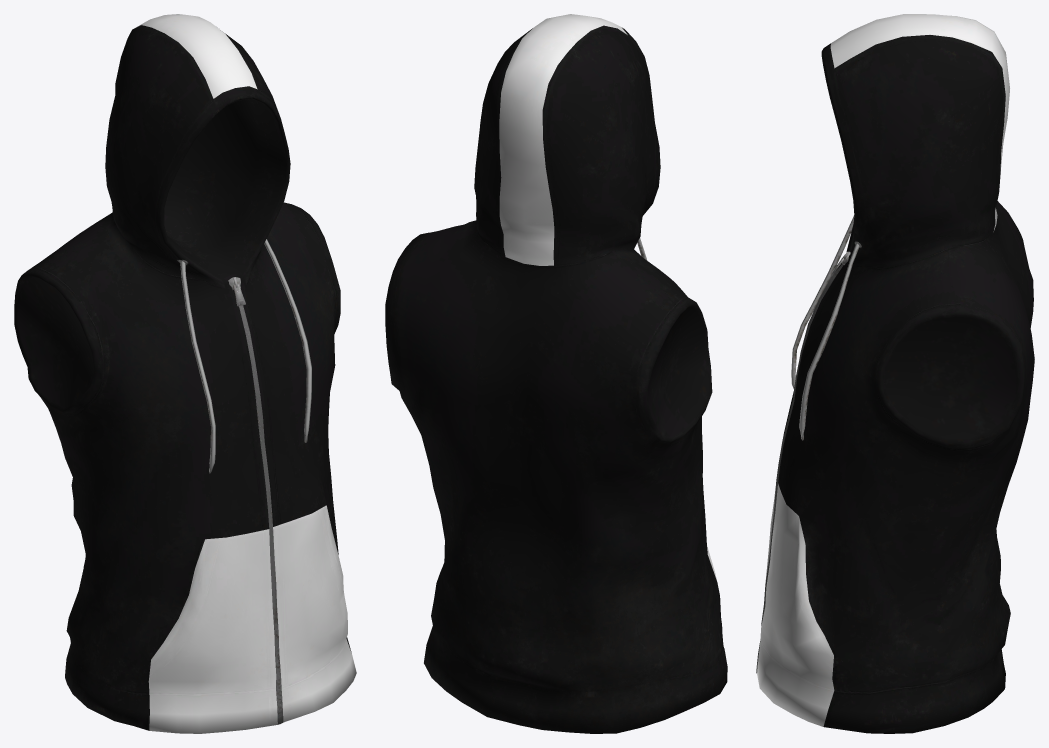
Rendered from SurvivorMale_Chest_Shirt_SleevelessHoodie_Up_LOD0.glb.
The picture shows the model from 3 angles, left to right: view 1: azimuth 30°, elevation 25°; view 2: azimuth 150°, elevation 25°; view 3: azimuth 270°, elevation 25°; orthographic projection. The views are drawn at different scales.
Parts seen in each view (by area): view 1: Hoodie; view 2: Hoodie; view 3: Hoodie.
Part boxes in pixels (box(x1,y1,x2,y2)): Hoodie: box(14, 14, 356, 733); Hoodie: box(385, 14, 727, 733); Hoodie: box(756, 14, 1034, 733).
Size of the model in its own units: 0.3993 by 0.9148 by 0.3514.
Materials: 1 (1 with a texture image).
